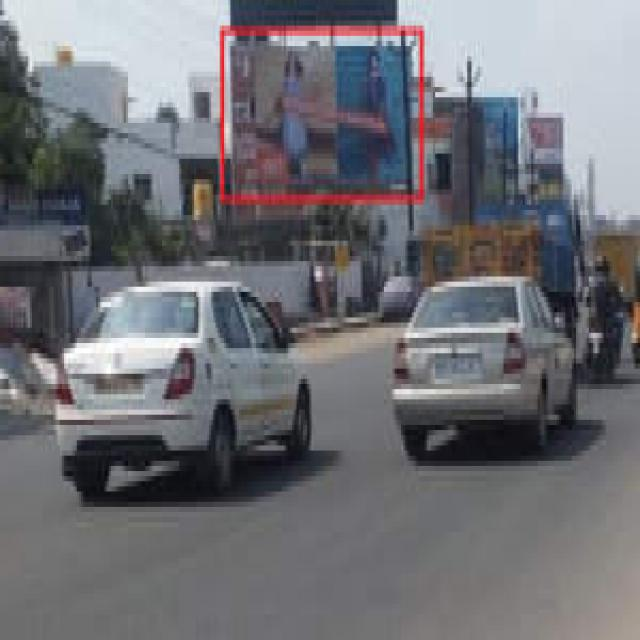Werbetafel frei: (231, 38, 415, 206)
